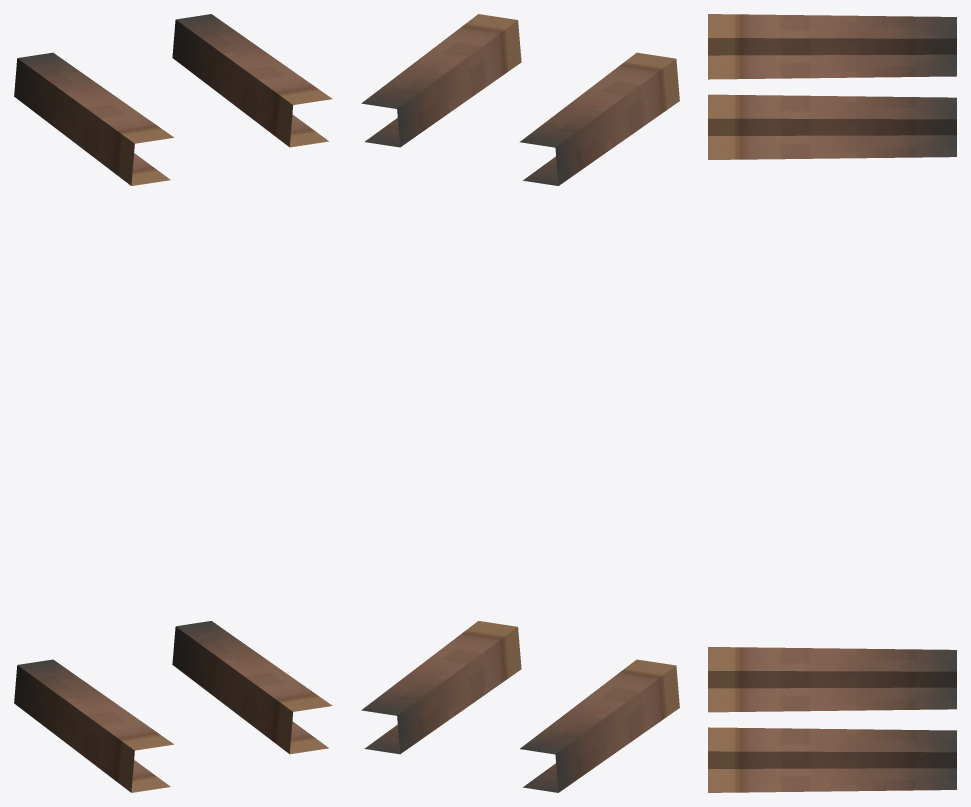
The model's file is pillar_04_0_23d7ed0e__ZombiesII_depot_diffuse_06_ddf3d44e_c1f257.obj.
3 renders of one model, left to right at view 1: azimuth 30°, elevation 25°; view 2: azimuth 150°, elevation 25°; view 3: azimuth 270°, elevation 25°, orthographic. The views are drawn at different scales.
Bounding box in the file's own units: 5.5 × 17.02 × 5.65.
Materials: 1 (1 with a texture image).
